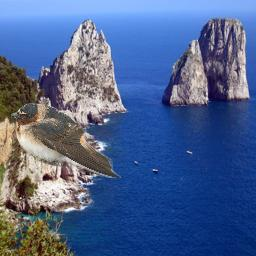Swallow: (11, 103, 121, 178)
